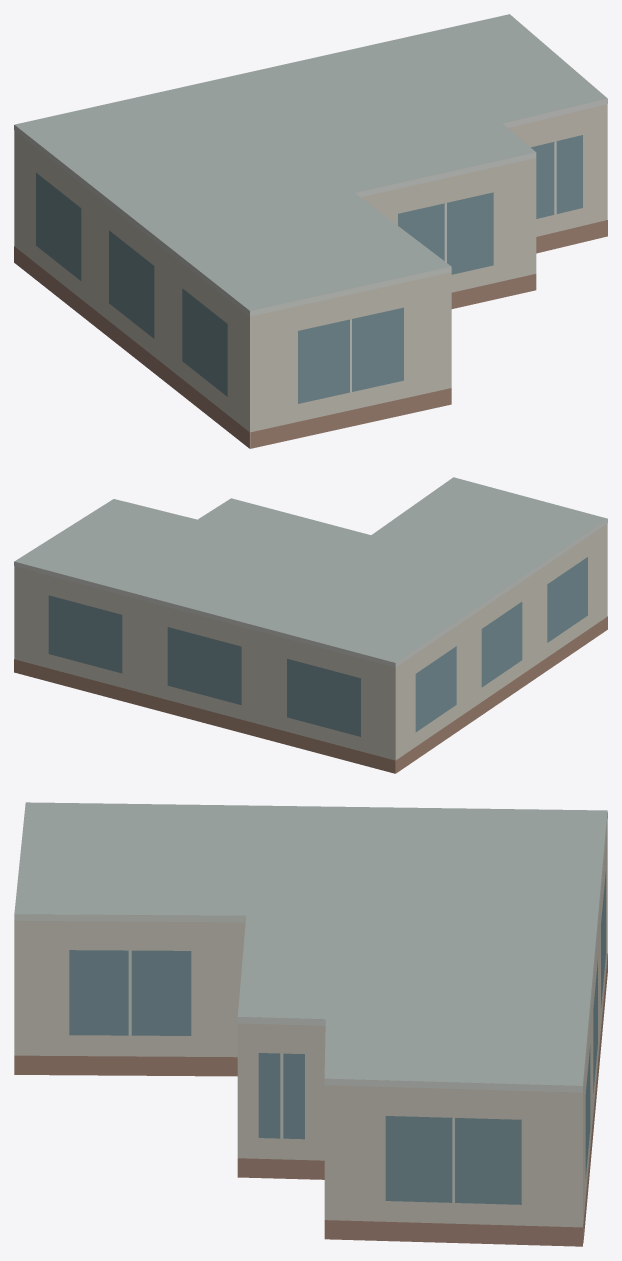
The model's file is survey-upis-32735826.glb.
3 renders of one model, top to bottom at view 1: azimuth 30°, elevation 25°; view 2: azimuth 150°, elevation 25°; view 3: azimuth 270°, elevation 25°, orthographic. The views are drawn at different scales.
Parts seen in each view (by area): view 1: survey-upis-32735826.tmp; view 2: survey-upis-32735826.tmp; view 3: survey-upis-32735826.tmp.
Boxes of the visible parts, <box> form: survey-upis-32735826.tmp: <box>14,14,607,448</box>; survey-upis-32735826.tmp: <box>14,477,607,773</box>; survey-upis-32735826.tmp: <box>14,802,607,1246</box>.
Bounding box in the file's own units: 11.57 × 3.05 × 10.23.
